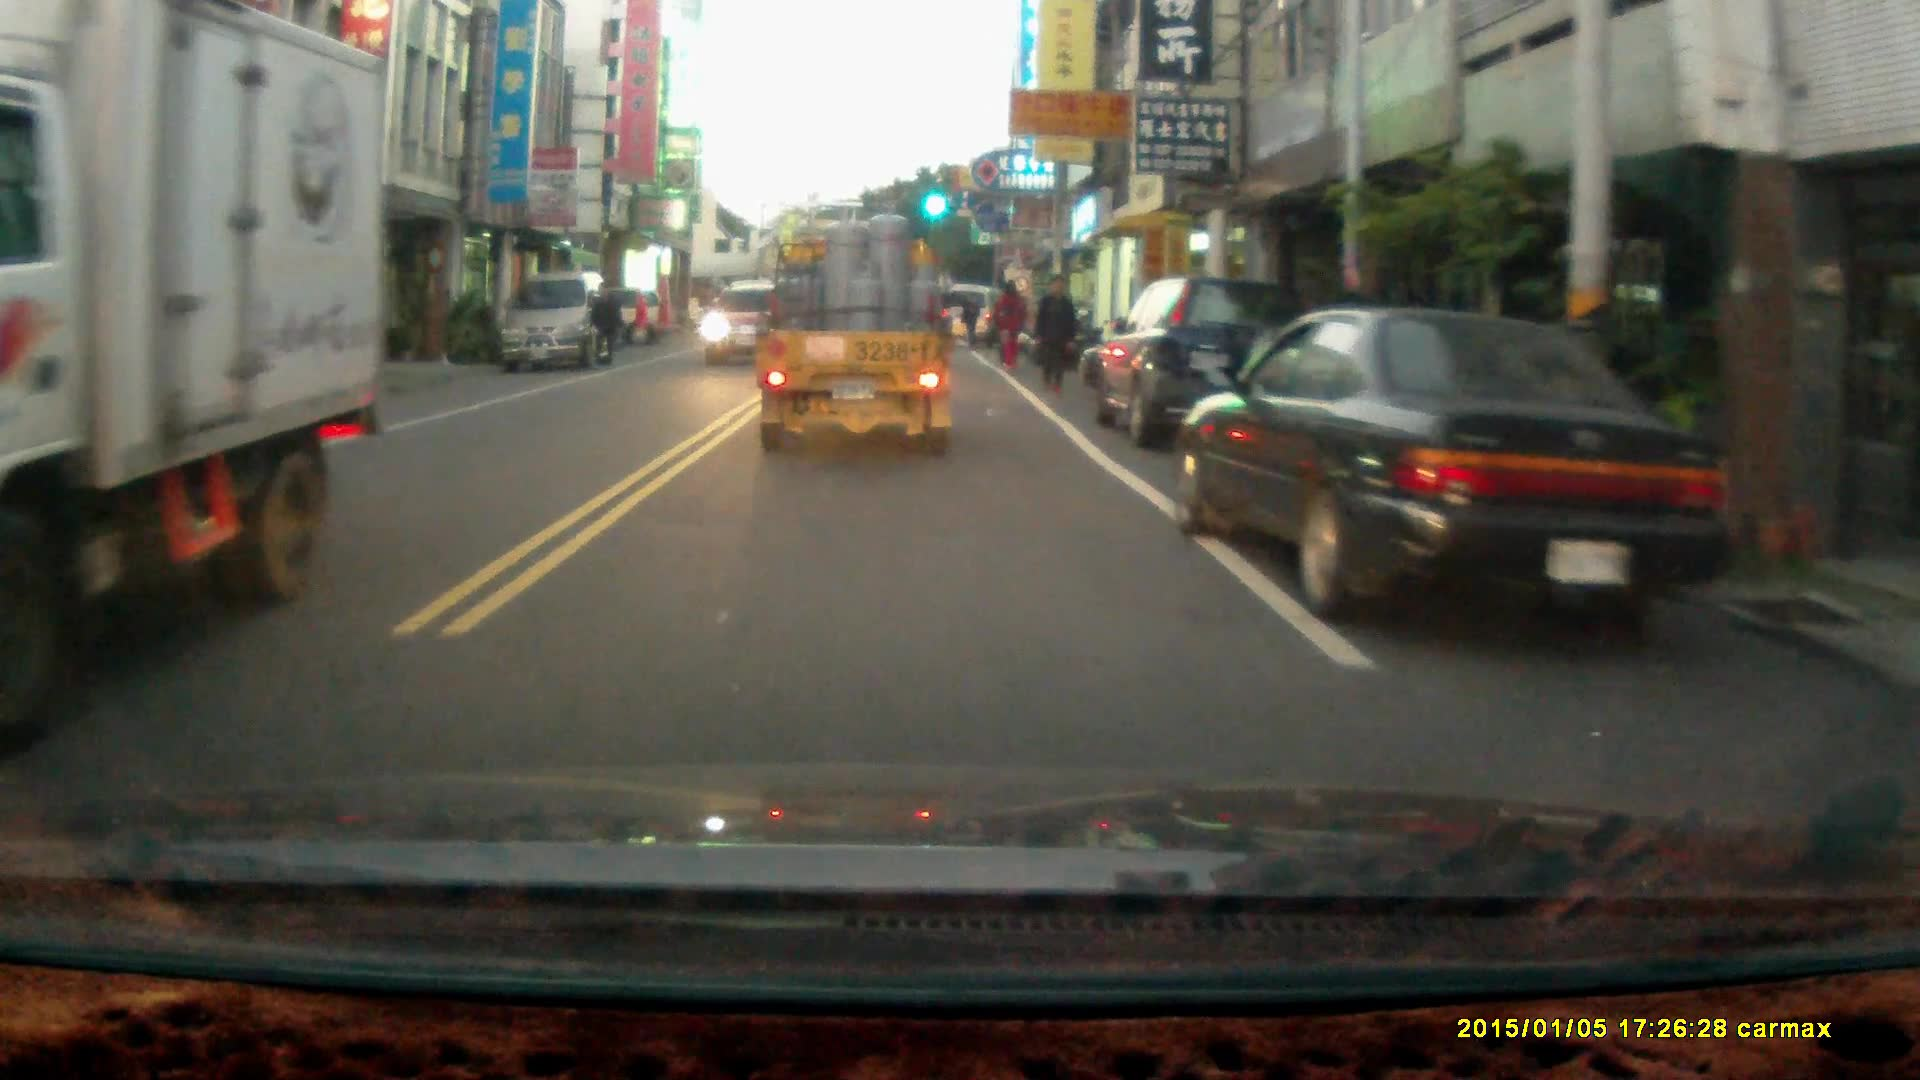pedestrian: (1028, 270, 1076, 396), (989, 278, 1026, 370), (587, 279, 621, 364), (959, 291, 980, 345)
vehicle: (1, 6, 382, 686), (1175, 306, 1747, 626), (750, 193, 961, 463), (1096, 275, 1318, 455), (499, 271, 616, 373), (696, 279, 782, 368)
